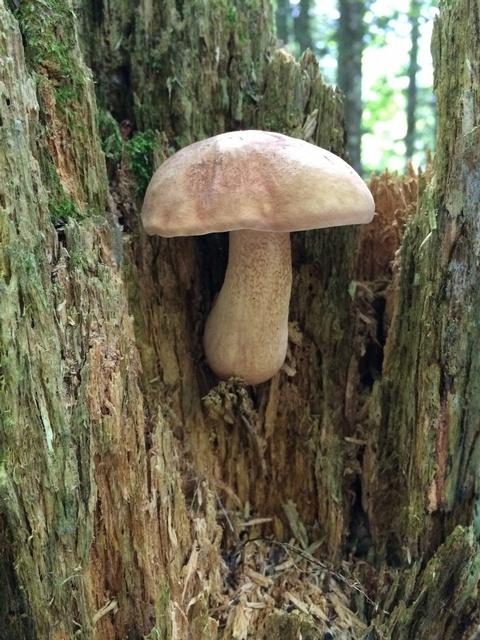Non-edible Mushroom: (139, 127, 376, 386)
